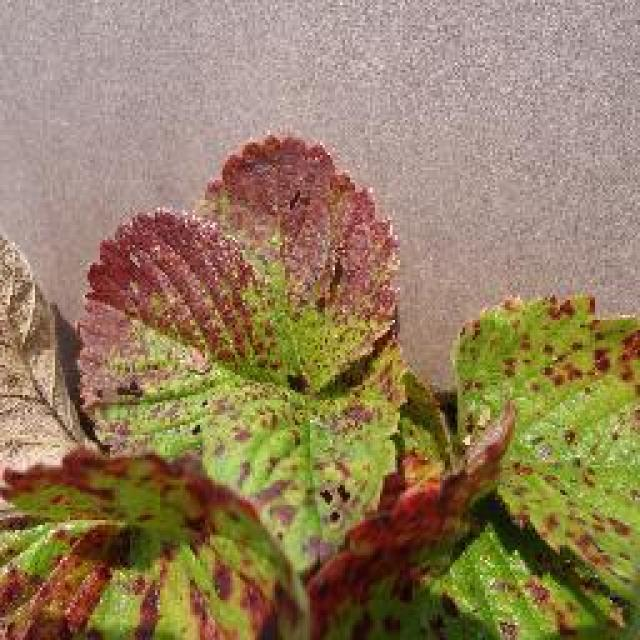Strawberry leaf scorch: (71, 164, 486, 514)
